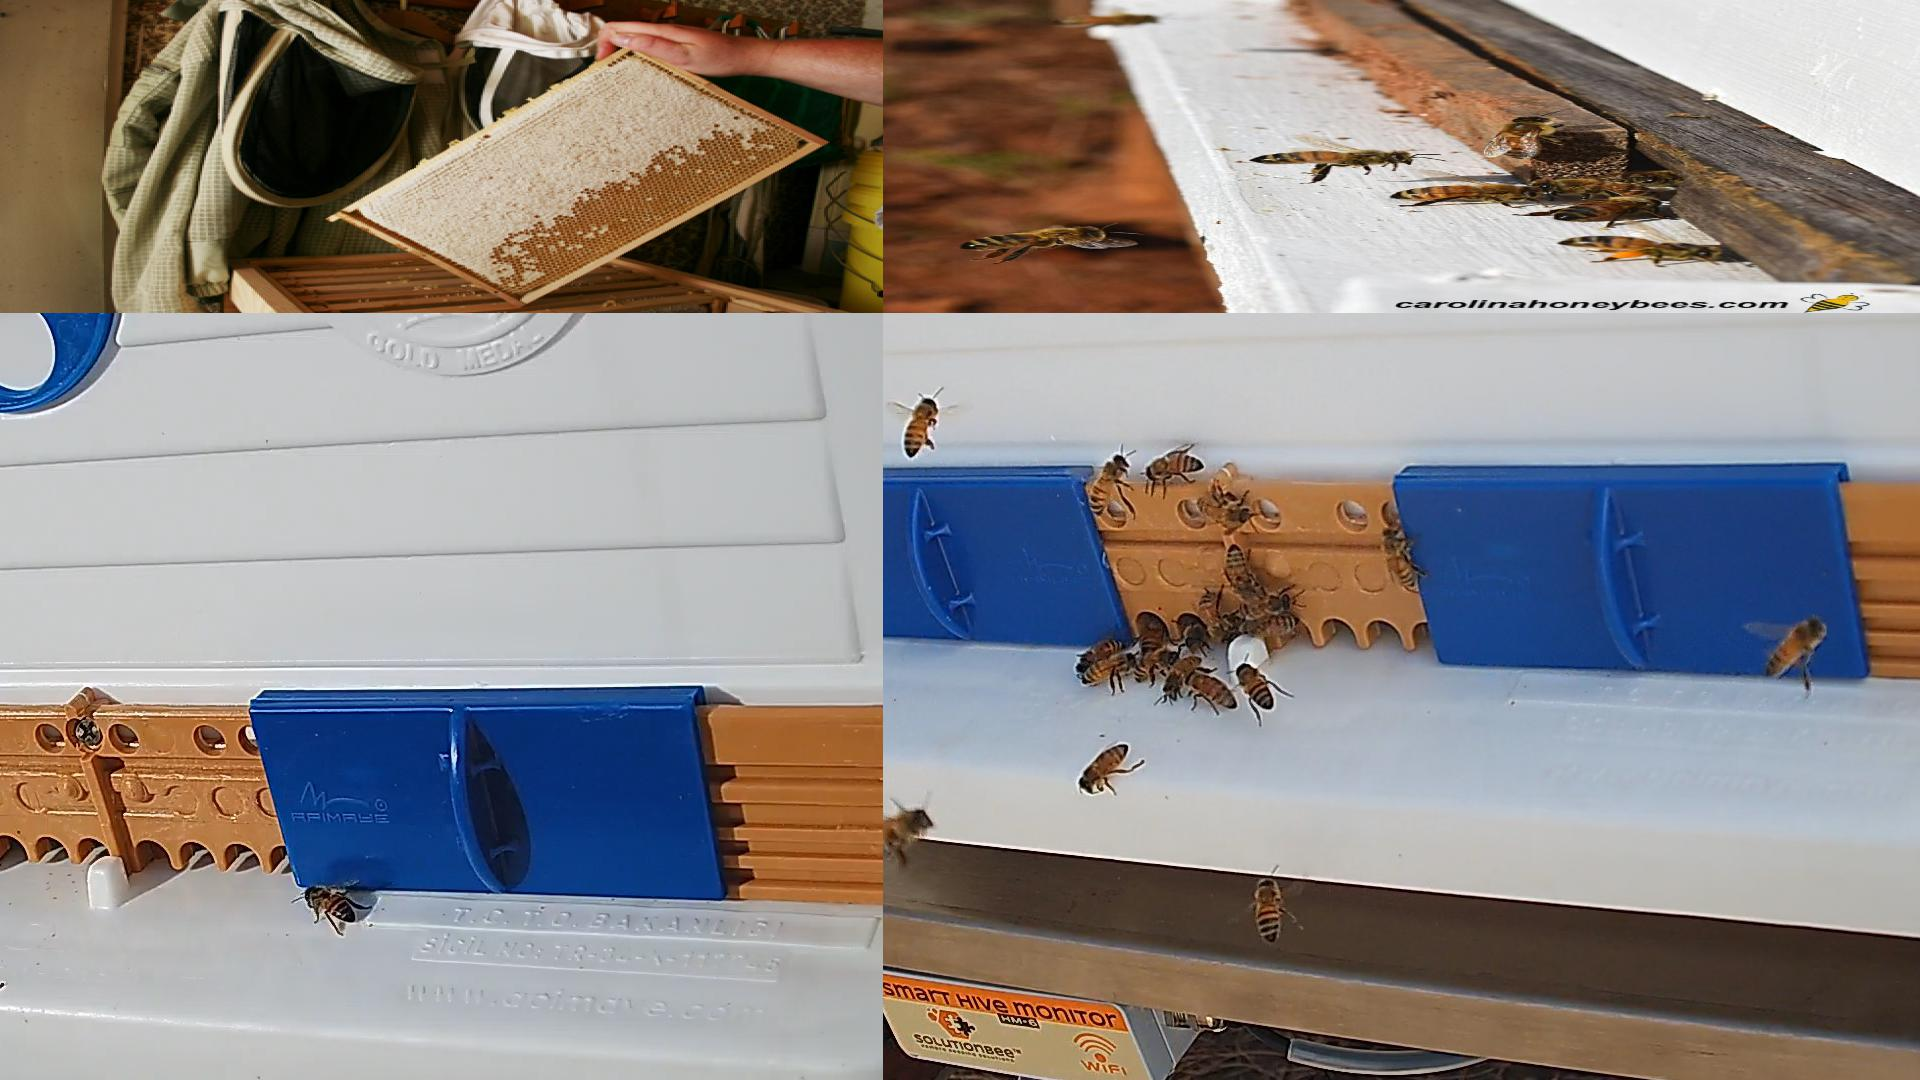bee: (963, 227, 1104, 249), (1770, 621, 1826, 675), (1552, 196, 1660, 220), (1253, 150, 1418, 165), (1391, 185, 1540, 200), (1080, 742, 1129, 790), (1091, 455, 1129, 513), (1528, 178, 1655, 195), (1495, 117, 1548, 158), (302, 886, 356, 926), (903, 397, 938, 458), (1225, 546, 1263, 596), (1382, 530, 1418, 583), (1237, 661, 1274, 709), (1197, 495, 1247, 530), (884, 810, 931, 847), (1255, 878, 1282, 942), (1200, 592, 1237, 637), (1084, 653, 1134, 684), (1079, 638, 1125, 673), (1189, 674, 1236, 708), (1147, 452, 1204, 480), (1166, 657, 1203, 698), (1055, 13, 1155, 28), (1238, 616, 1298, 638), (1241, 593, 1291, 618), (1135, 651, 1175, 682), (1630, 170, 1700, 185), (1142, 615, 1164, 654), (1182, 613, 1204, 647)
pollenbee: (1553, 235, 1724, 262)
